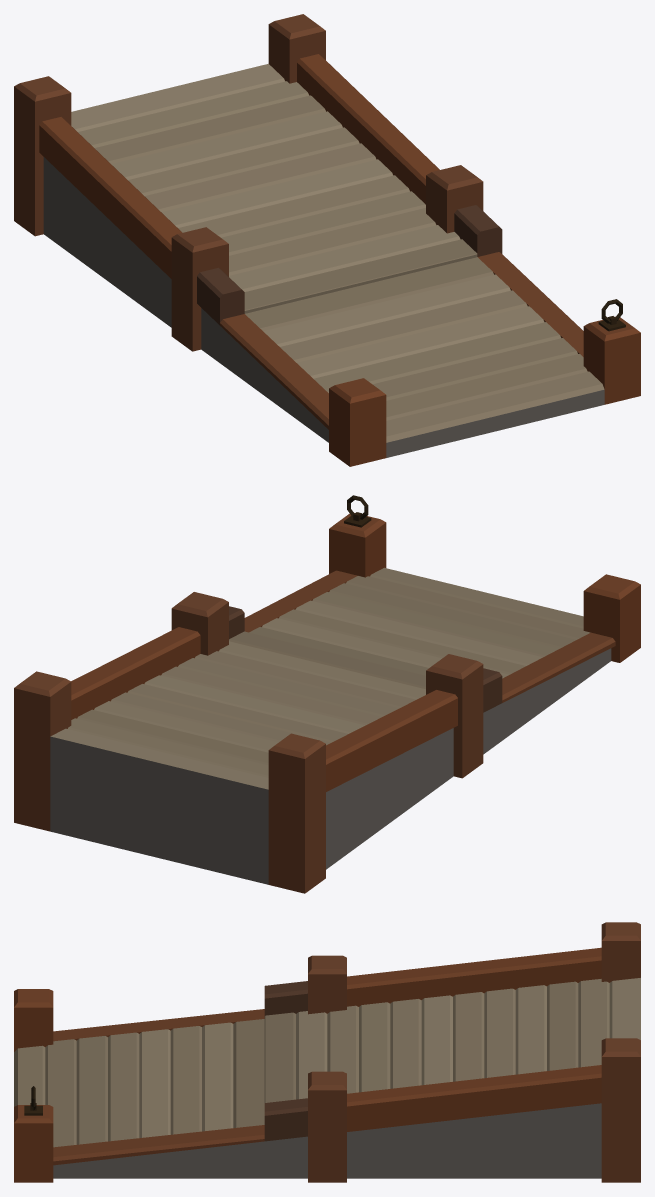
Rendered from boat-launch-ramp-dbde11.glb.
3 renders of one model, top to bottom at view 1: azimuth 30°, elevation 25°; view 2: azimuth 150°, elevation 25°; view 3: azimuth 270°, elevation 25°, orthographic. The views are drawn at different scales.
Parts seen in each view (by area): view 1: ramp; view 2: ramp; view 3: ramp.
Boxes of the visible parts, box(x1,y1,x2,y2) form: ramp: box(14, 14, 640, 466); ramp: box(14, 513, 640, 893); ramp: box(14, 922, 640, 1182).
Bounding box in the file's own units: 4 × 1.82 × 8.
